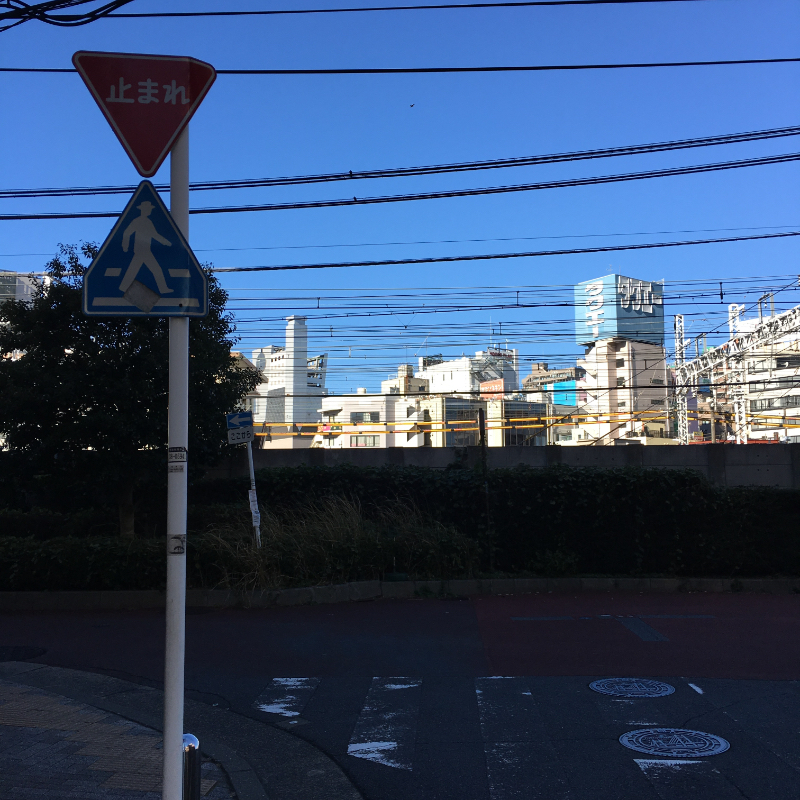STOP: (66, 48, 220, 179)
